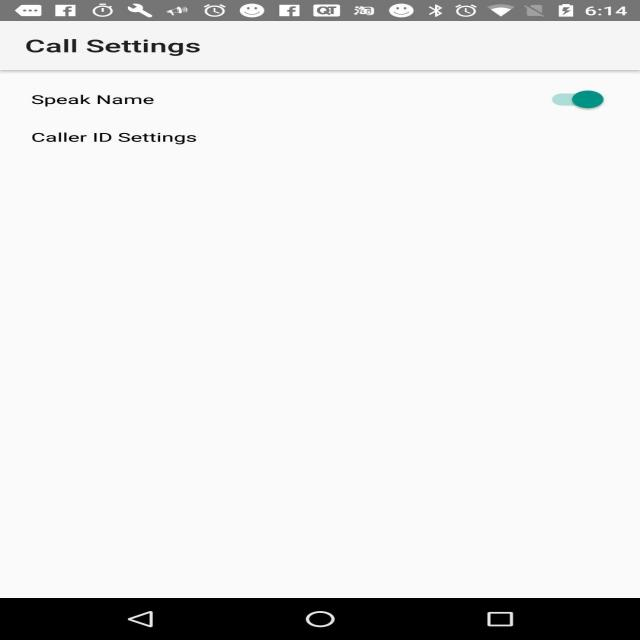button: (535, 82, 635, 130)
text: (27, 127, 200, 166), (32, 38, 234, 69), (15, 98, 159, 121)
